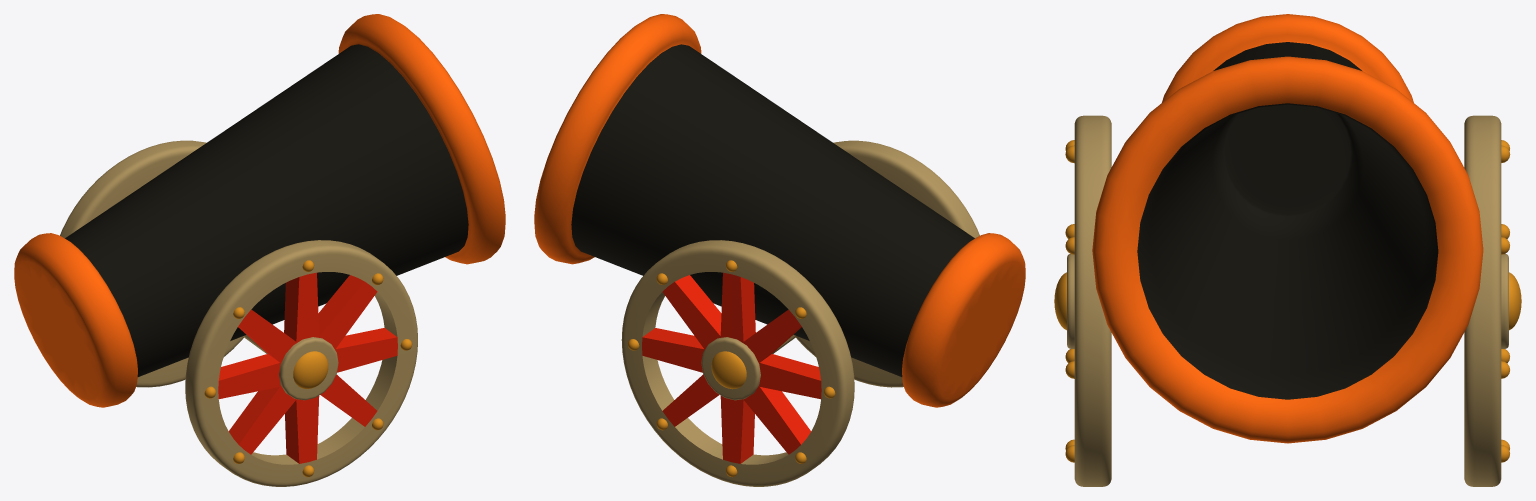
3 views of the same model, side by side, from view 1: azimuth 30°, elevation 25°; view 2: azimuth 150°, elevation 25°; view 3: azimuth 270°, elevation 25° (orthographic). The views are drawn at different scales.
Visible parts, largest first — view 1: Cylinder064, Group085, Tube028, Group084, Tube029, Cylinder063, Sphere053; view 2: Cylinder064, Group085, Tube029, Group086, Tube028, Cylinder065, Sphere054; view 3: Cylinder064, Group085, Tube029, Tube028, Cylinder065, Cylinder063, Sphere053, Sphere054.
Part boxes in pixels (box(x1,y1,x2,y2)): Cylinder064: box(65, 44, 468, 376); Group085: box(14, 14, 505, 407); Tube028: box(185, 240, 417, 486); Group084: box(218, 272, 397, 463); Tube029: box(60, 140, 243, 387); Cylinder063: box(243, 335, 338, 400); Sphere053: box(293, 351, 328, 389); Cylinder064: box(571, 44, 974, 376); Group085: box(534, 14, 1025, 407); Tube029: box(621, 240, 854, 486); Group086: box(642, 272, 821, 463); Tube028: box(796, 140, 979, 387); Cylinder065: box(701, 335, 796, 400); Sphere054: box(711, 351, 746, 389); Cylinder064: box(1137, 42, 1438, 399); Group085: box(1092, 14, 1483, 443); Tube029: box(1464, 115, 1501, 486); Tube028: box(1074, 115, 1111, 486); Cylinder065: box(1501, 253, 1508, 348); Cylinder063: box(1067, 254, 1074, 348); Sphere053: box(1054, 272, 1066, 330); Sphere054: box(1509, 272, 1521, 330).
Bounding box in the file's own units: 55.31 × 45.78 × 36.88.
